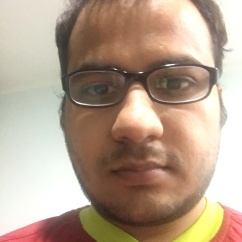glasses: (58, 62, 220, 105)
